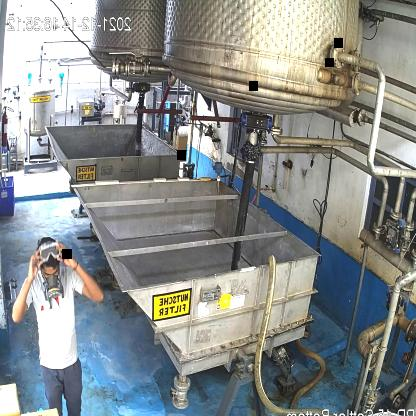mask: (39, 272, 63, 302)
no_goggles: (40, 266, 60, 282)
